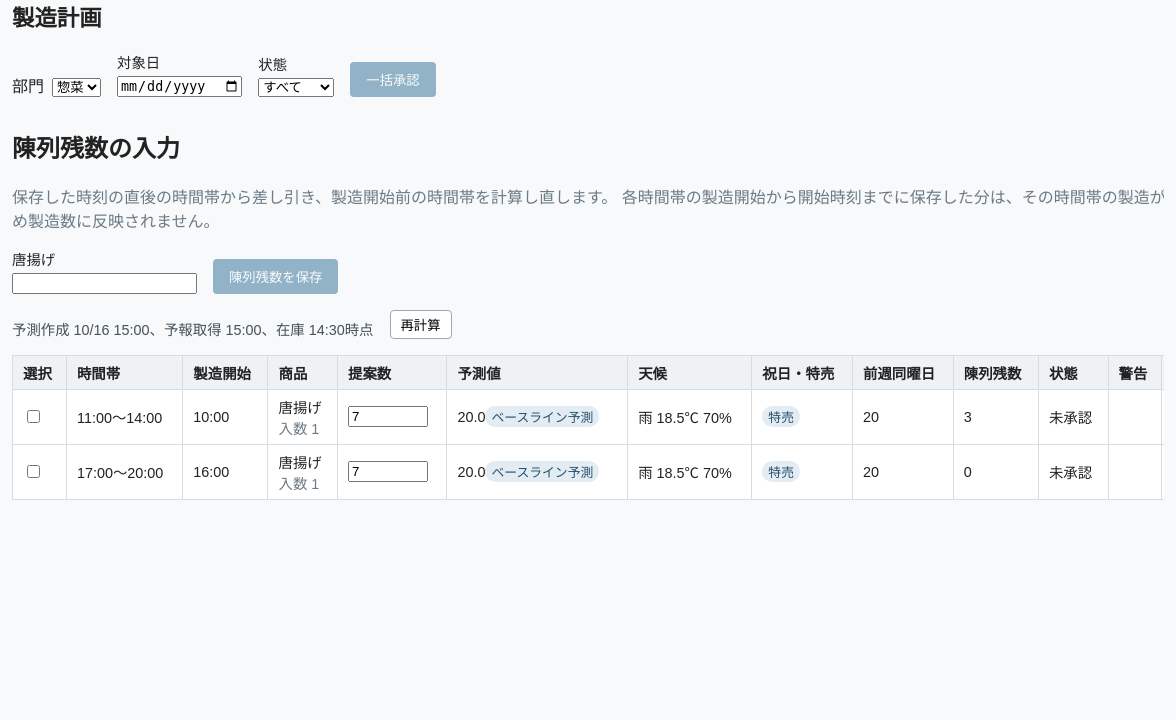
tracks the returned job when the plan of the day is already shown
The width and height of the screenshot is (1176, 720).
Expected: the heading "製造計画" is shown, [12,6,102,31]
Type "2026-10-16" into the date field labelled "対象日".
click(180, 86); type("2026-10-16")  # box [117,76,242,97]
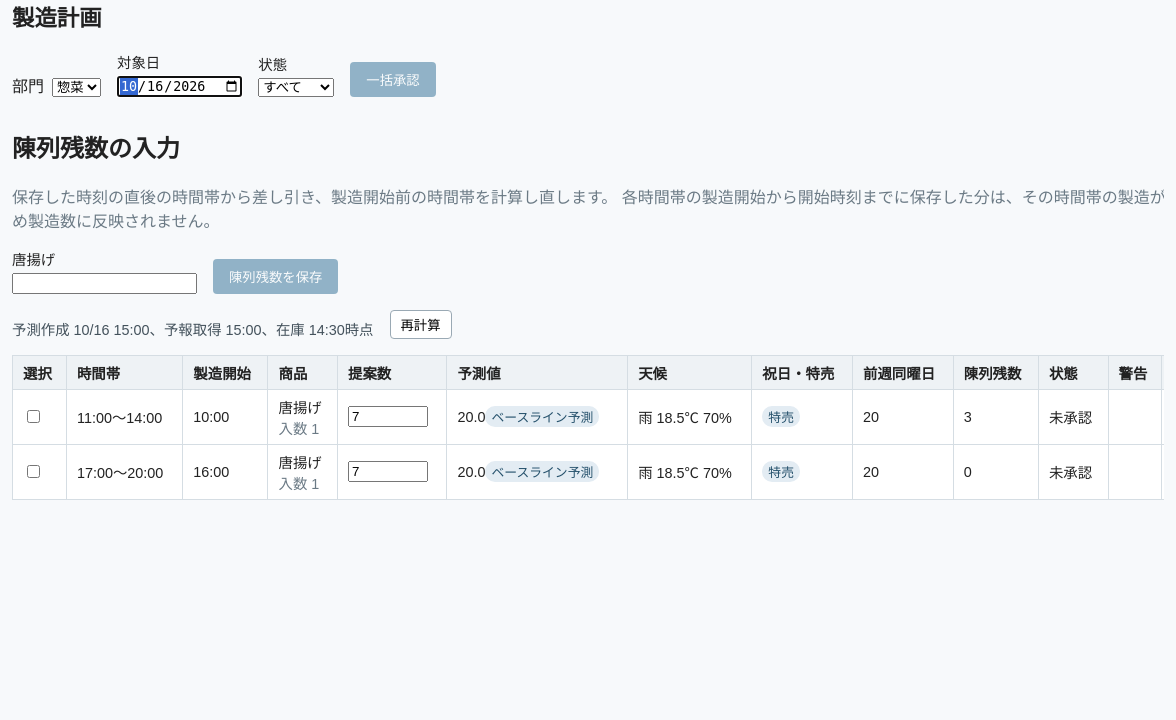
Type "3" into the number field named "唐揚げ の陳列残数".
click(104, 283); type("3")  # box [12,273,197,294]
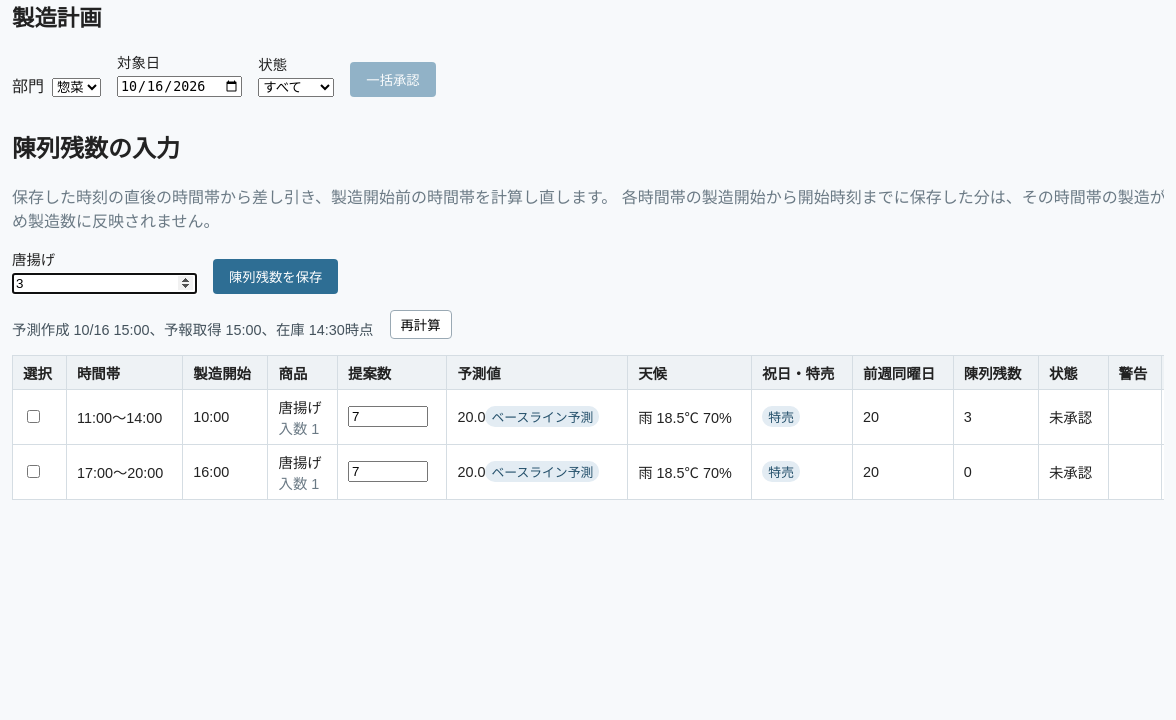
Click the button "陳列残数を保存".
click(276, 276)  # box [213,259,338,294]
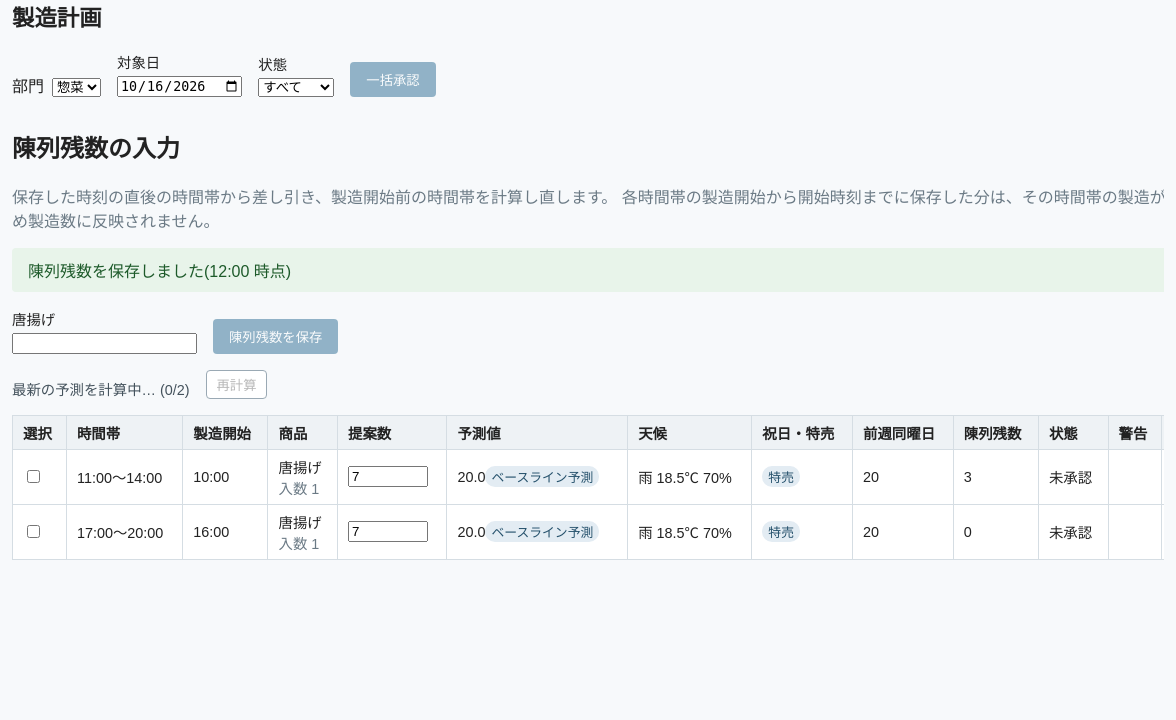
Result: the text "最新の予測を計算中… (0/2)" is shown at [12,378,190,399]
